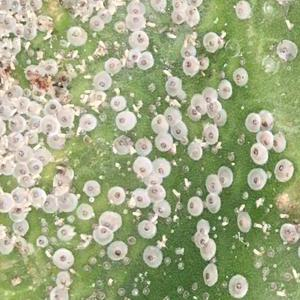Femea: (3, 92, 23, 111), (30, 118, 53, 131), (45, 133, 64, 146), (107, 211, 124, 224), (55, 112, 72, 125), (146, 249, 159, 265), (247, 113, 259, 130), (180, 59, 197, 71), (201, 267, 213, 284), (153, 160, 166, 175), (282, 225, 295, 240), (55, 251, 68, 266), (277, 161, 289, 177), (83, 183, 99, 195), (249, 171, 262, 185), (118, 114, 132, 127), (9, 117, 23, 130), (96, 227, 111, 239), (134, 32, 146, 47), (231, 277, 243, 292), (153, 115, 164, 131), (174, 121, 185, 137), (198, 96, 214, 107), (111, 244, 124, 257), (95, 75, 109, 87), (157, 135, 168, 150), (250, 145, 261, 160), (110, 188, 123, 200), (30, 190, 43, 202), (55, 177, 67, 190), (235, 216, 247, 229), (26, 104, 38, 117), (181, 45, 194, 57), (205, 102, 218, 114), (139, 221, 153, 232), (233, 71, 247, 82), (46, 101, 58, 113), (14, 222, 26, 234), (135, 161, 146, 174), (138, 140, 149, 153), (207, 178, 218, 191), (189, 197, 200, 210), (9, 134, 22, 145), (261, 113, 270, 128), (27, 162, 42, 171), (134, 190, 145, 202), (148, 173, 159, 185), (13, 208, 25, 219), (195, 233, 206, 245), (25, 131, 37, 142), (203, 89, 213, 102), (12, 190, 22, 203), (207, 196, 217, 209), (77, 207, 90, 217), (205, 35, 215, 48), (185, 110, 194, 124), (273, 135, 282, 149), (150, 186, 161, 197), (111, 97, 122, 108), (60, 228, 72, 238), (106, 61, 118, 71), (220, 83, 229, 96), (155, 202, 164, 215), (14, 166, 27, 175), (43, 196, 52, 209), (17, 148, 27, 159), (166, 109, 175, 121), (168, 79, 177, 91), (219, 171, 228, 183), (34, 236, 46, 245), (208, 127, 215, 142), (213, 112, 223, 122), (262, 135, 271, 146), (199, 219, 206, 233), (140, 56, 149, 66), (21, 176, 30, 185), (198, 58, 205, 69), (130, 52, 138, 60)
Linfa: (113, 160, 121, 166), (97, 173, 103, 180), (122, 208, 128, 215), (125, 159, 130, 166), (216, 214, 221, 221), (129, 92, 134, 98), (211, 225, 216, 230), (88, 197, 94, 201), (213, 233, 218, 237), (169, 228, 174, 232), (127, 167, 131, 171)
Macho: (162, 66, 172, 78), (251, 245, 261, 257), (171, 188, 180, 200), (129, 103, 142, 111), (237, 202, 247, 212), (278, 210, 289, 219), (166, 30, 177, 39), (253, 218, 261, 230), (291, 265, 297, 281), (32, 143, 44, 150), (132, 209, 141, 218), (182, 176, 188, 189), (261, 220, 267, 232), (62, 103, 74, 108)
